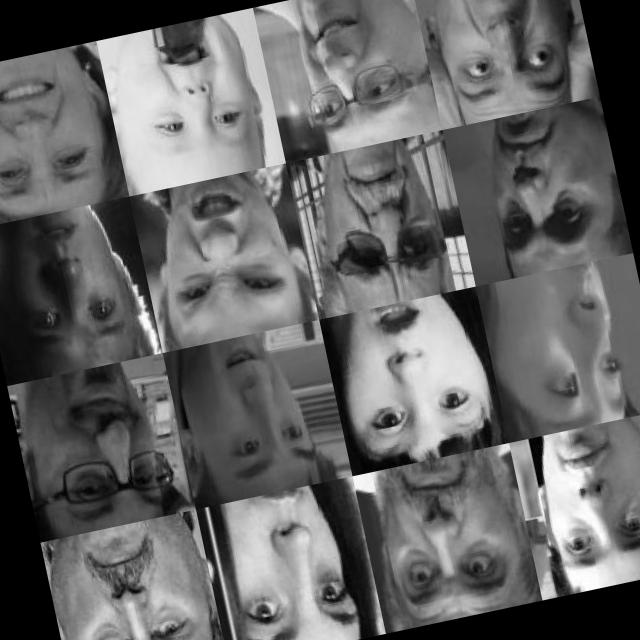angry: (148, 168, 304, 338), (184, 328, 326, 498), (52, 517, 212, 640)
fear: (330, 292, 500, 471), (427, 0, 582, 123)
happy: (23, 358, 186, 536), (116, 17, 266, 184), (280, 0, 428, 151), (0, 50, 106, 219)
neutral: (370, 452, 524, 626), (495, 260, 640, 439), (306, 138, 460, 302), (213, 479, 369, 640), (470, 104, 610, 274), (525, 420, 640, 582)
sad: (0, 201, 143, 369)
